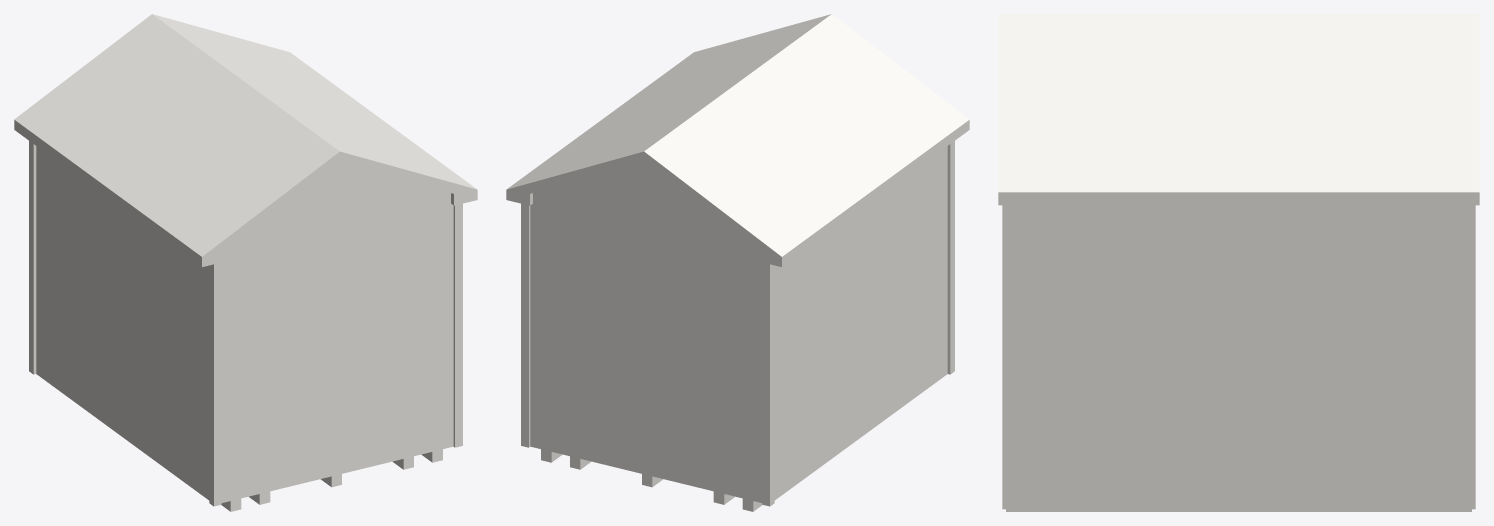
Rendered from 8 wide A-frame_7ft_8x10.obj.
The picture shows the model from 3 angles, left to right: view 1: azimuth 30°, elevation 25°; view 2: azimuth 150°, elevation 25°; view 3: azimuth 270°, elevation 25°; orthographic projection. The views are drawn at different scales.
Parts seen in each view (by area): view 1: Shed, Roof, Trim, Sides, Floor; view 2: Shed, Roof, Trim, Sides, Floor; view 3: Shed, Roof, Trim, Sides, Floor.
Part boxes in pixels (x1,y1,x2,y2): Shed: (36, 146, 453, 502); Roof: (14, 14, 476, 256); Trim: (29, 141, 462, 506); Sides: (14, 120, 477, 266); Floor: (221, 449, 442, 511); Shed: (530, 146, 947, 502); Roof: (507, 14, 969, 256); Trim: (521, 141, 954, 506); Sides: (506, 120, 969, 266); Floor: (541, 449, 762, 511); Shed: (1014, 205, 1463, 507); Roof: (998, 14, 1479, 192); Trim: (1002, 205, 1475, 509); Sides: (998, 192, 1479, 205); Floor: (1006, 507, 1471, 511).
Bounding box in the file's own units: 2.67 × 3.12 × 3.15.
